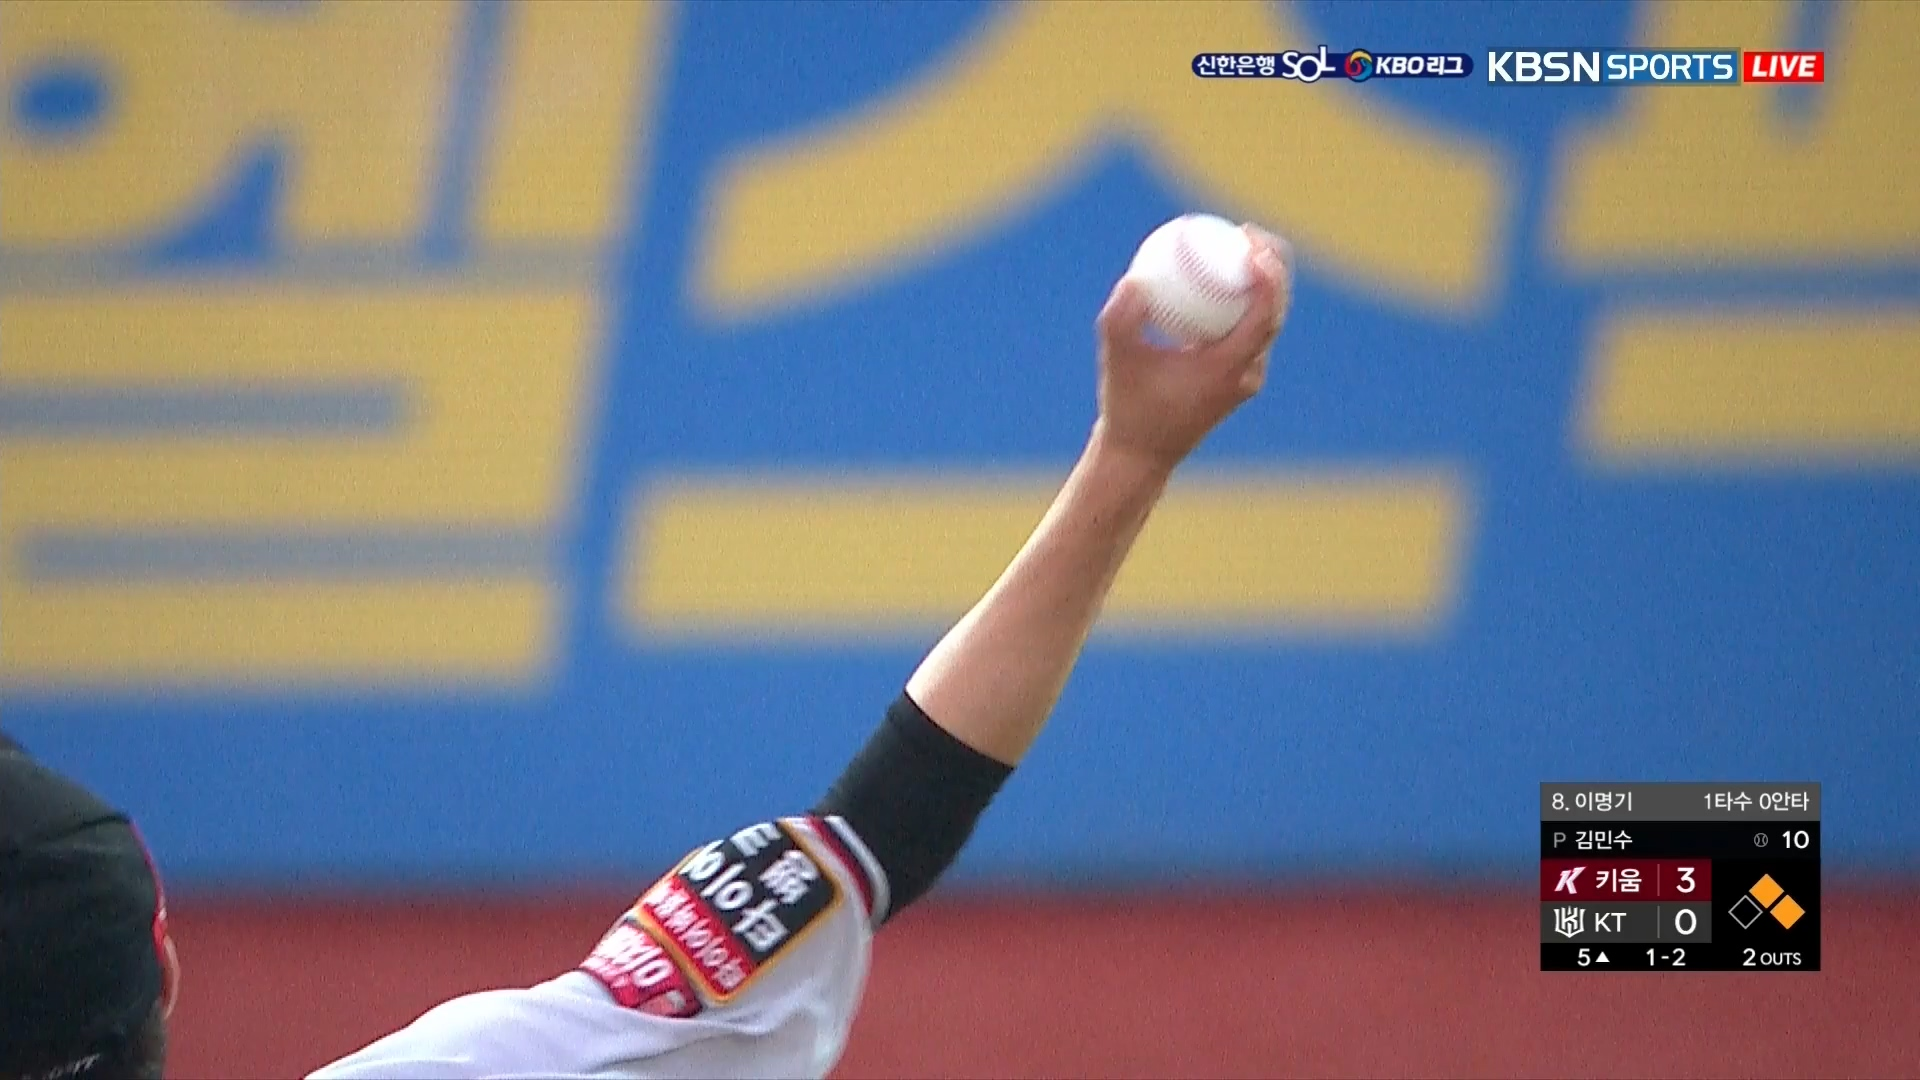zoomin_hand: (880, 200, 1313, 916)
